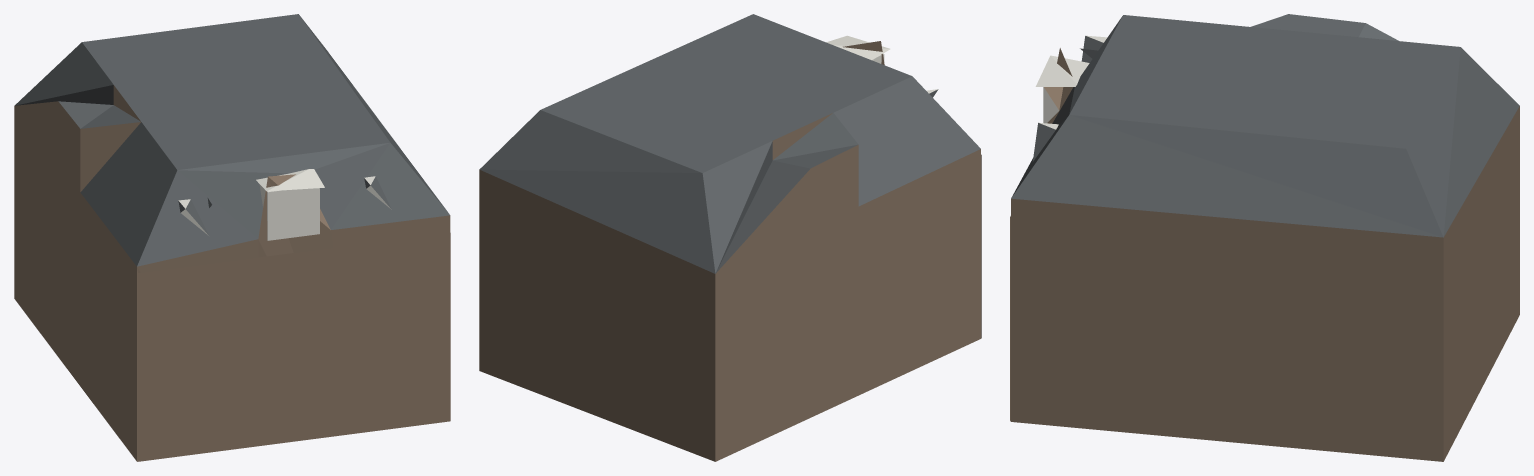
File: koetshuis-keizersgracht-607.lod2.glb
3 views of the same model, side by side, from view 1: azimuth 30°, elevation 25°; view 2: azimuth 150°, elevation 25°; view 3: azimuth 270°, elevation 25° (orthographic). The views are drawn at different scales.
Parts seen in each view (by area): view 1: lod2; view 2: lod2; view 3: lod2.
Boxes of the visible parts, x1=… form: lod2: x1=14, y1=14, x2=450, y2=461; lod2: x1=479, y1=14, x2=981, y2=461; lod2: x1=1010, y1=14, x2=1519, y2=461.
Bounding box in the file's own units: 18.6 × 13.47 × 21.46.
